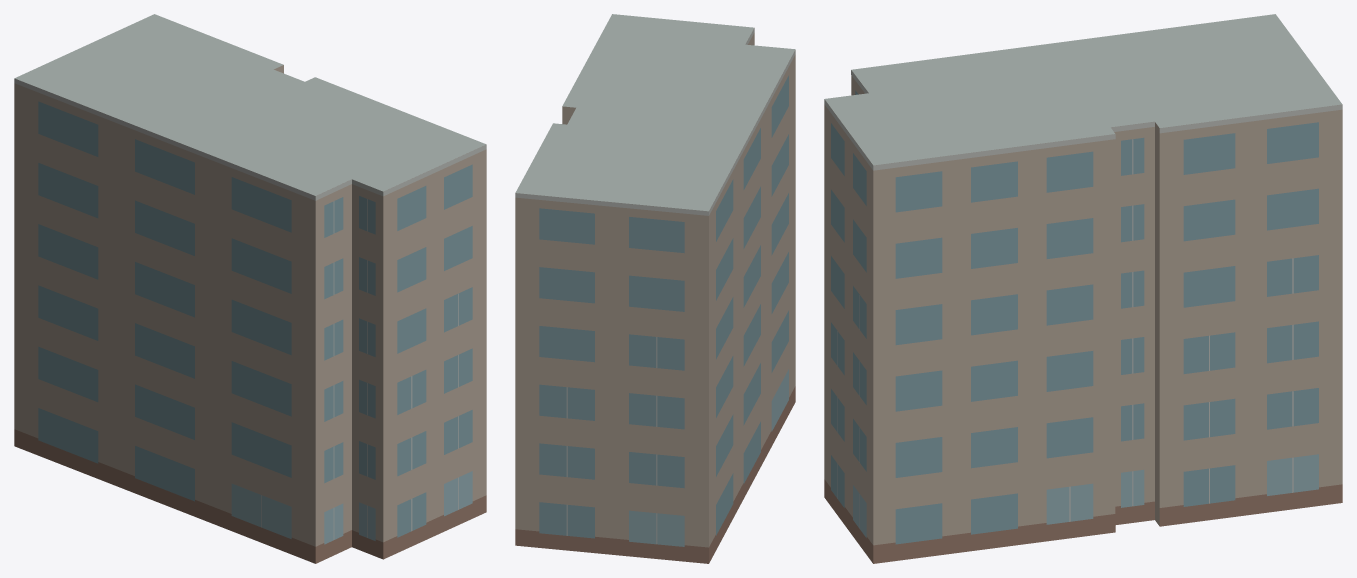
File: survey-upis-32557395.glb
3 views of the same model, side by side, from view 1: azimuth 30°, elevation 25°; view 2: azimuth 150°, elevation 25°; view 3: azimuth 270°, elevation 25° (orthographic). The views are drawn at different scales.
Visible parts, largest first — view 1: survey-upis-32557395.tmp; view 2: survey-upis-32557395.tmp; view 3: survey-upis-32557395.tmp.
Part boxes in pixels (box(x1,y1,x2,y2)): survey-upis-32557395.tmp: box(14, 14, 486, 563); survey-upis-32557395.tmp: box(515, 14, 795, 563); survey-upis-32557395.tmp: box(824, 14, 1342, 563).
Size of the model in its own units: 15.3 by 18.75 by 22.11.
